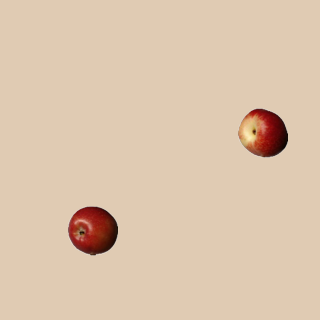Apple Braeburn: (67, 205, 117, 255)
Nectarine: (237, 107, 287, 157)
